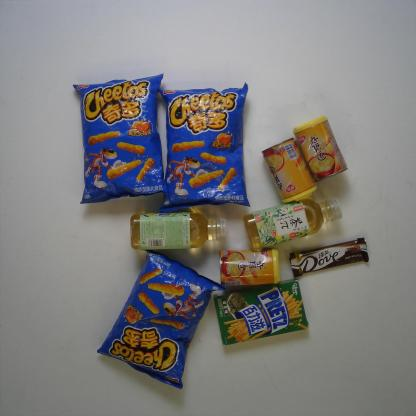Canned Food: (260, 136, 319, 205), (292, 114, 348, 184), (219, 247, 280, 288)
Chocolate: (289, 236, 370, 278)
Dessert: (212, 278, 310, 346)
Drink: (244, 197, 344, 251), (129, 210, 229, 251)
Puffed Food: (95, 250, 228, 390), (72, 73, 168, 205), (158, 82, 252, 213)
